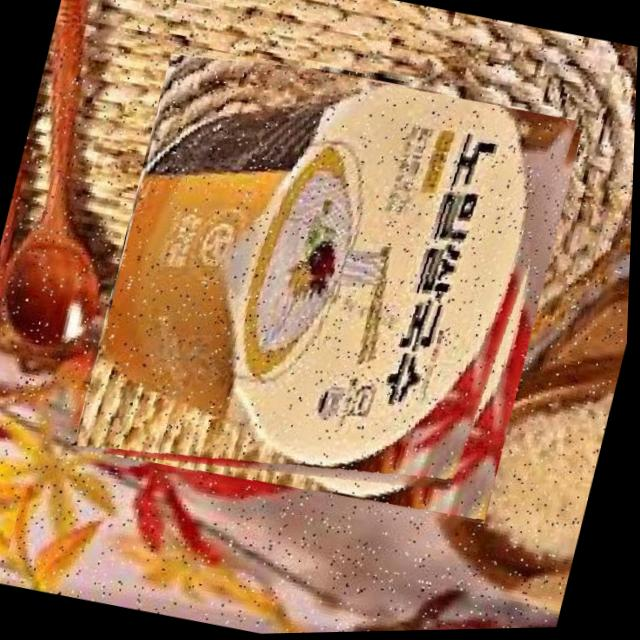Miscellaneous: (75, 37, 585, 541)
